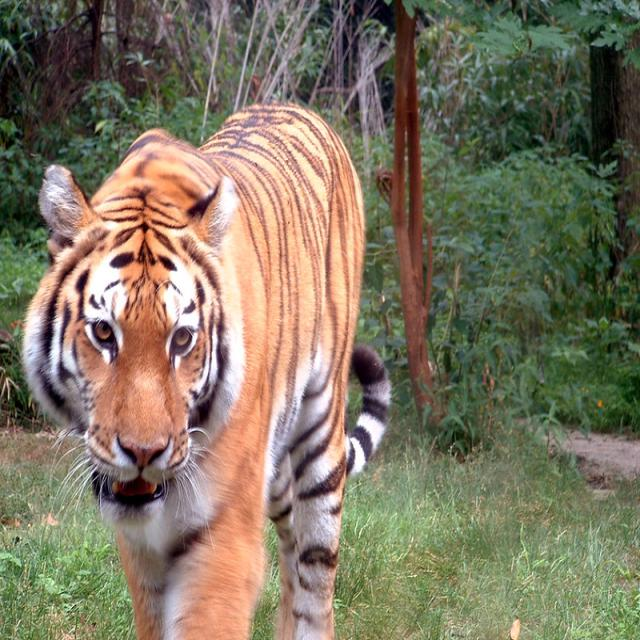Tiger: (20, 96, 394, 637)
